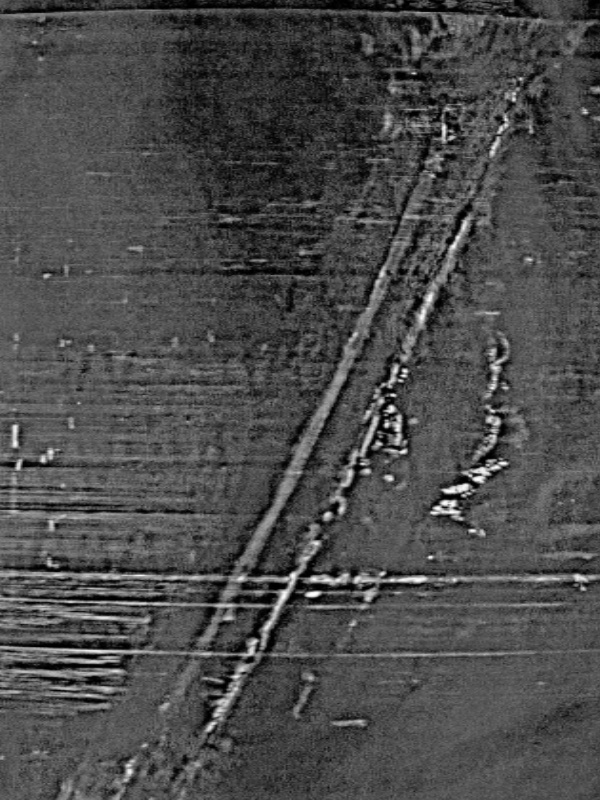splice_vulcanized: (60, 19, 539, 799)
